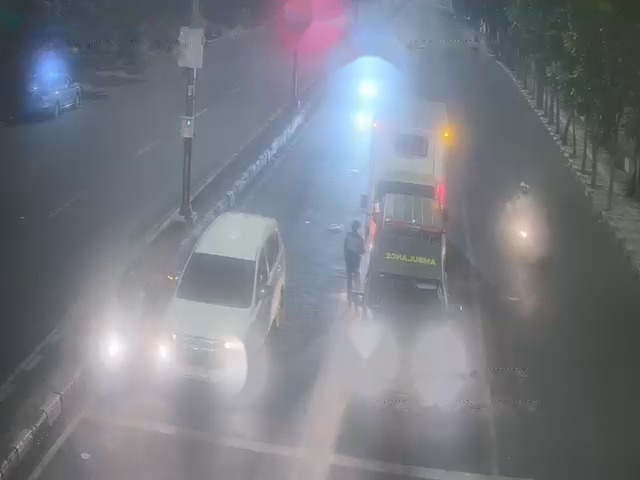Mobil: (165, 209, 272, 399), (367, 195, 447, 366)
Motor: (509, 222, 540, 258)
Truk: (367, 73, 453, 226)
